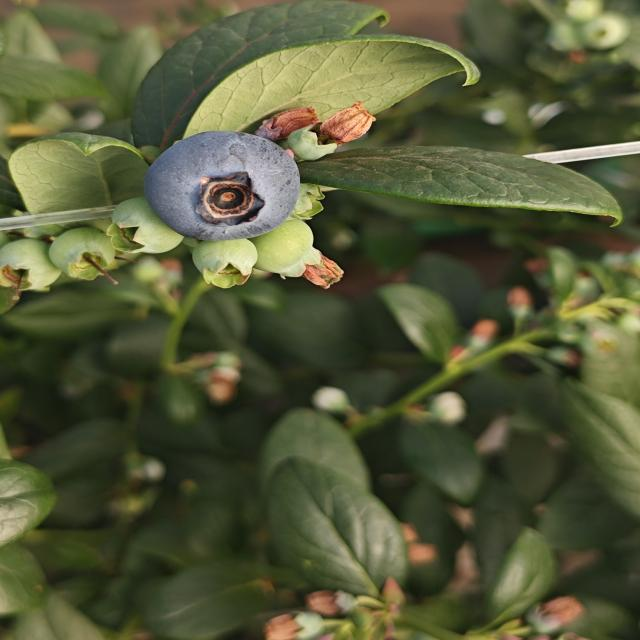ripe: (142, 129, 302, 243)
